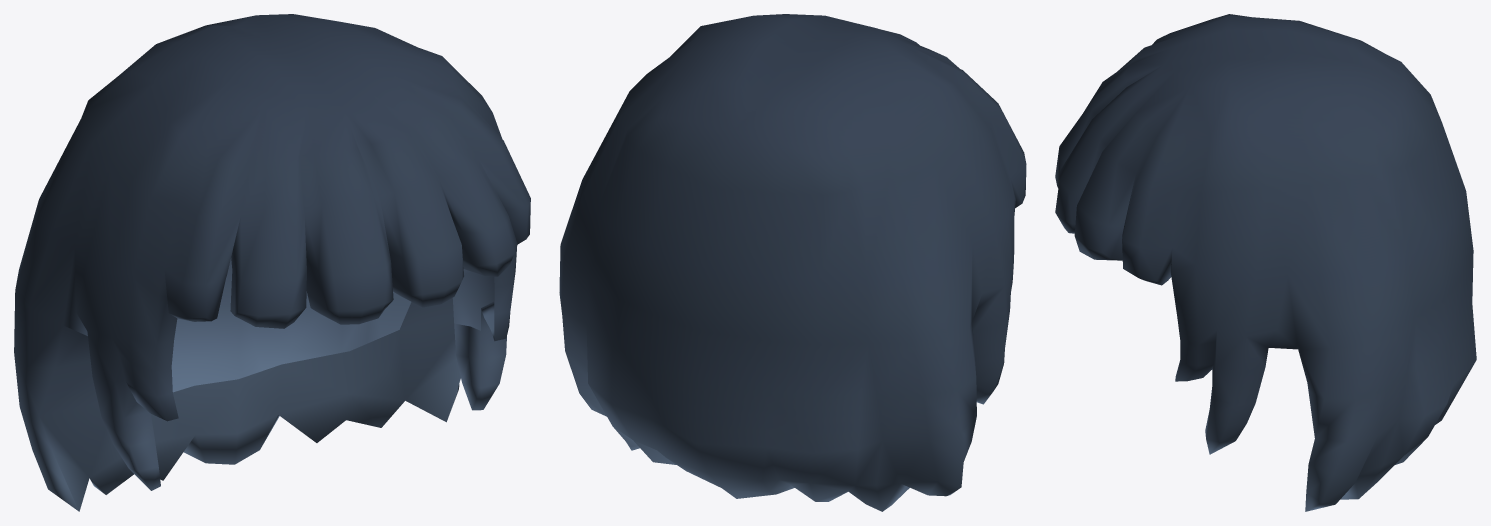
The model's file is Hair_25.fbx.
3 views of the same model, side by side, from view 1: azimuth 30°, elevation 25°; view 2: azimuth 150°, elevation 25°; view 3: azimuth 270°, elevation 25° (orthographic). The views are drawn at different scales.
Visible parts, largest first — view 1: Hair_25; view 2: Hair_25; view 3: Hair_25.
Boxes of the visible parts, x1,y1,x2,y2 form: Hair_25: (14,14,530,511); Hair_25: (559,14,1026,511); Hair_25: (1055,14,1476,511).
Bounding box in the file's own units: 59.9 × 58.88 × 55.6.
